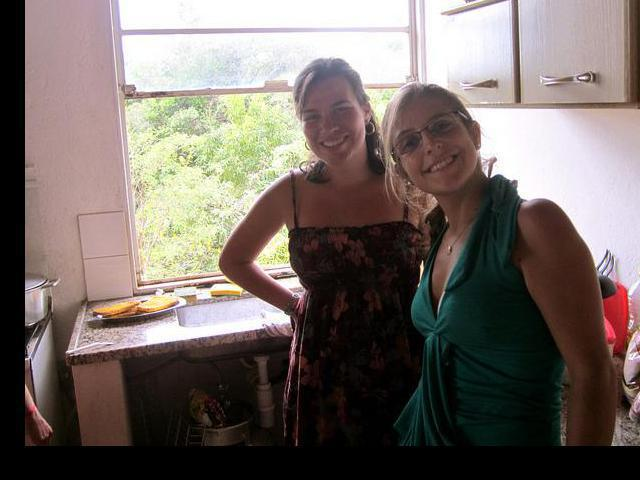Lavaplatos: (161, 237, 356, 339)
